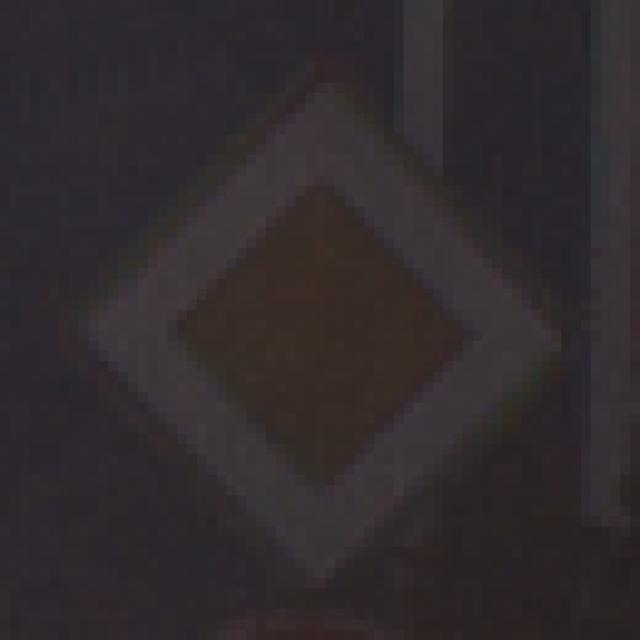Main Road: (50, 53, 582, 590)
